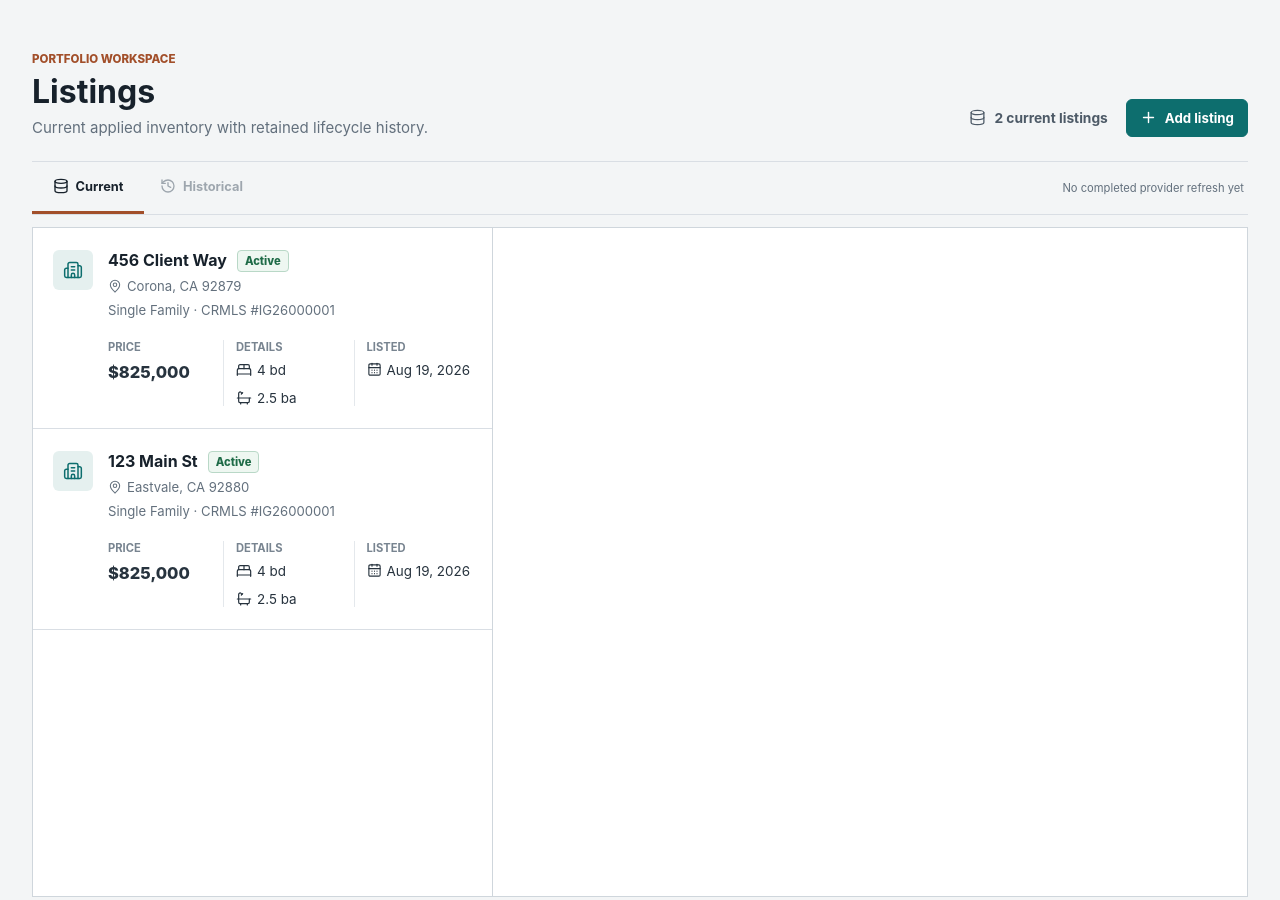
Scenario: ListingsScreen › offers edit and archive actions only for the selected manual listing
Click the button "123 Main St" at (73, 471), box [33, 429, 492, 630]
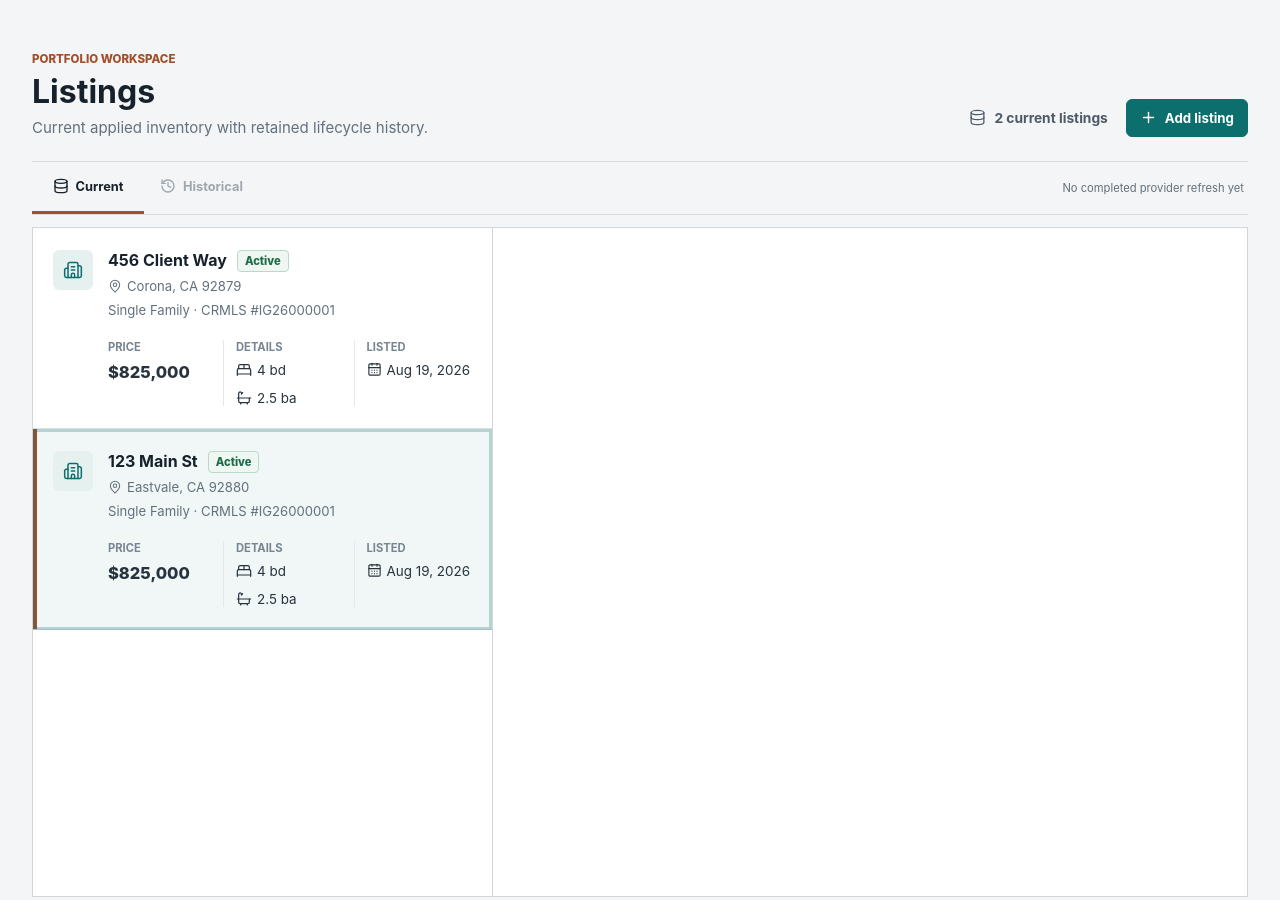
Click the button "456 Client Way" at (73, 270), box [33, 228, 492, 429]
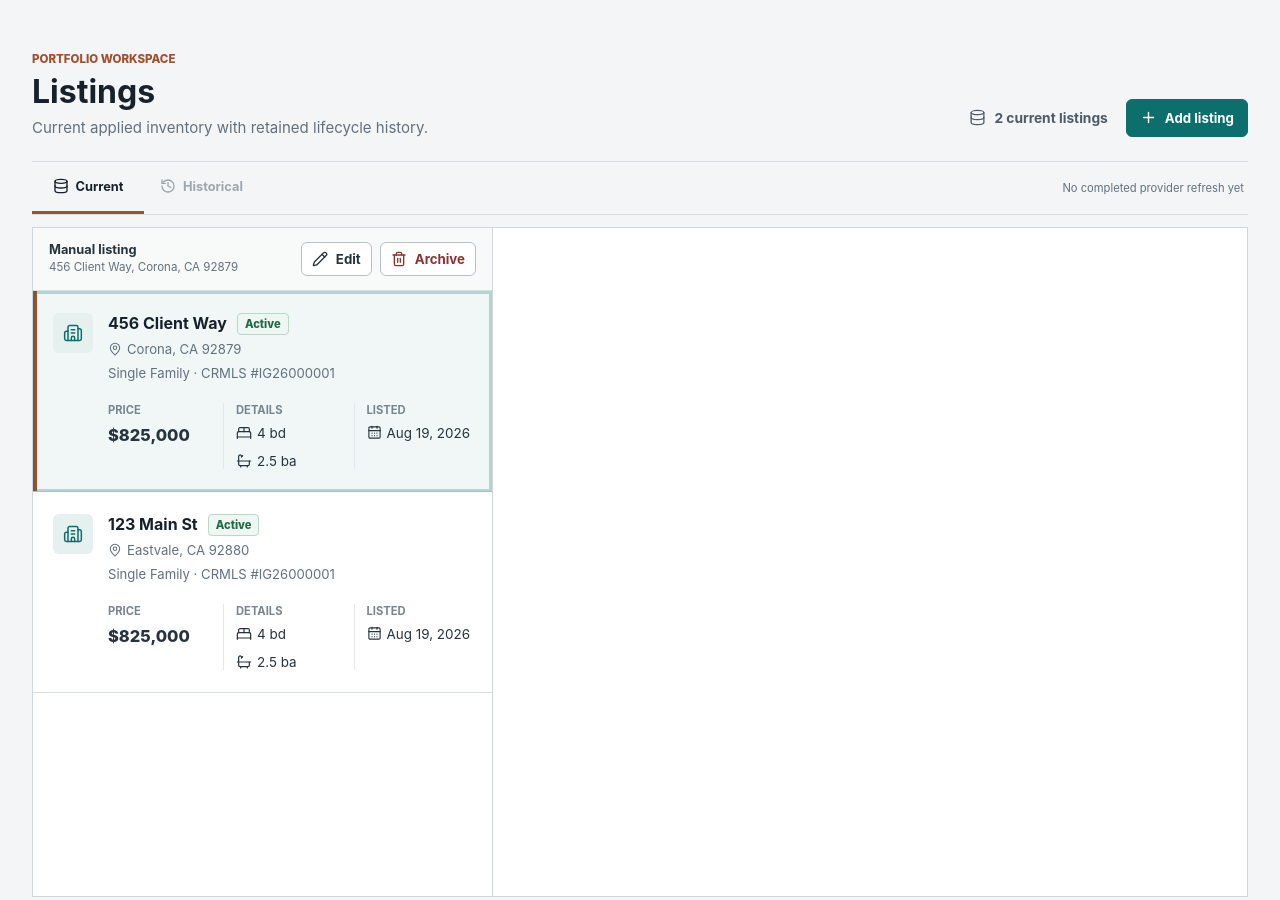
Expected: the button with aria-label "Edit listing" is enabled, [301, 242, 372, 276]
Expected: the button with aria-label "Archive listing" is enabled, [380, 242, 476, 276]
